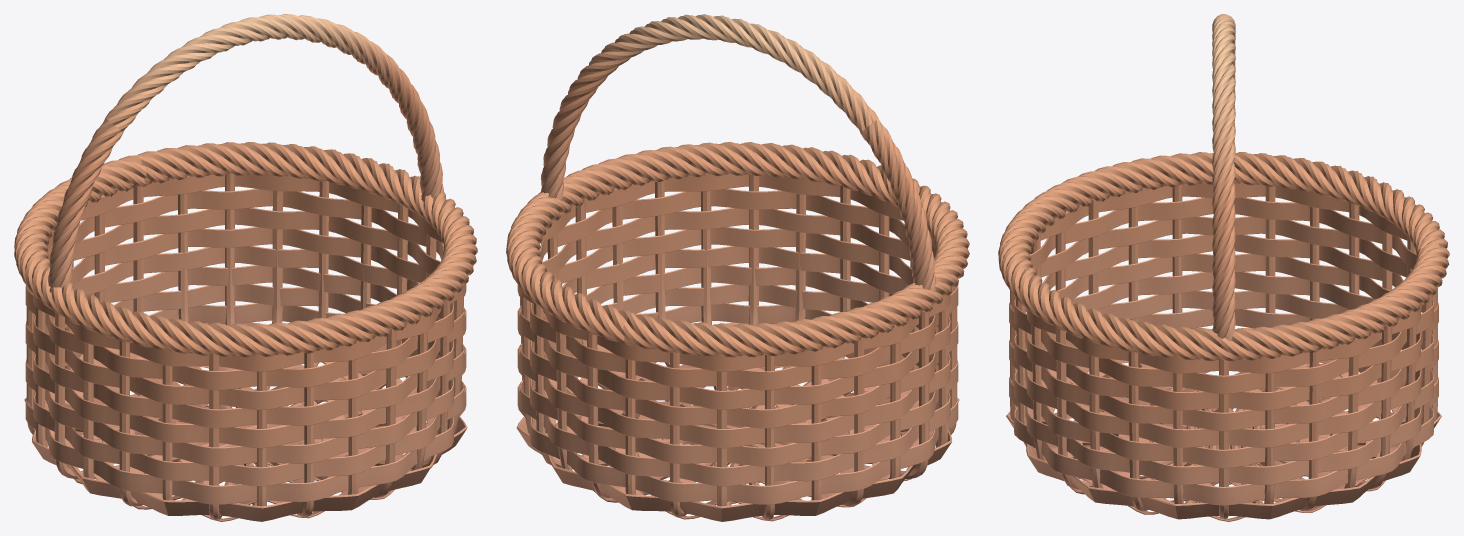
Rendered from SM_Picnic_Basket_V01.fbx.
The picture shows the model from 3 angles, left to right: view 1: azimuth 30°, elevation 25°; view 2: azimuth 150°, elevation 25°; view 3: azimuth 270°, elevation 25°; orthographic projection. The views are drawn at different scales.
Visible parts, largest first — view 1: SM_Picnic_Basket_V01; view 2: SM_Picnic_Basket_V01; view 3: SM_Picnic_Basket_V01.
Part boxes in pixels (x1=…): SM_Picnic_Basket_V01: x1=14, y1=14, x2=477, y2=521; SM_Picnic_Basket_V01: x1=506, y1=14, x2=969, y2=521; SM_Picnic_Basket_V01: x1=998, y1=14, x2=1449, y2=521.
Size of the model in its own units: 69.72 by 70.85 by 69.73.
